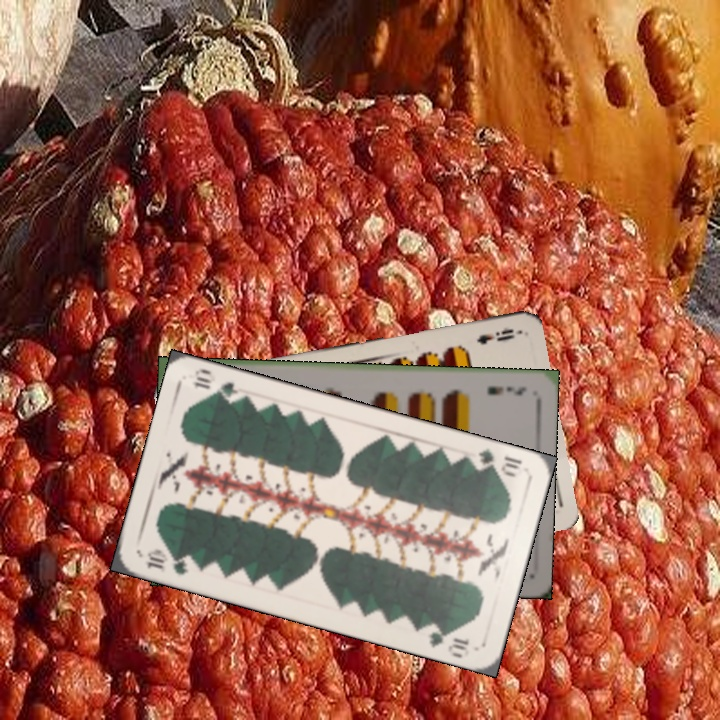E7: (484, 382, 529, 398)
E9: (472, 324, 520, 347)
G10: (143, 545, 199, 578), (474, 445, 525, 480)
